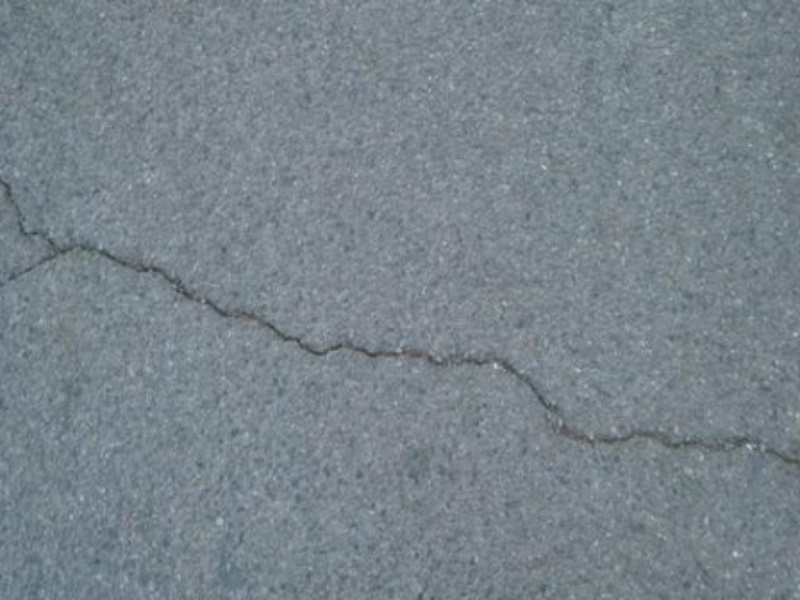crack: (4, 166, 798, 478)
